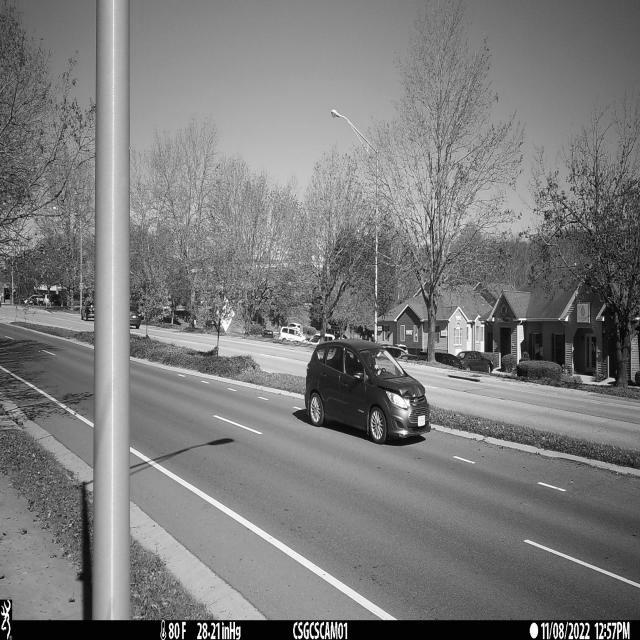SUV: (304, 340, 431, 445)
